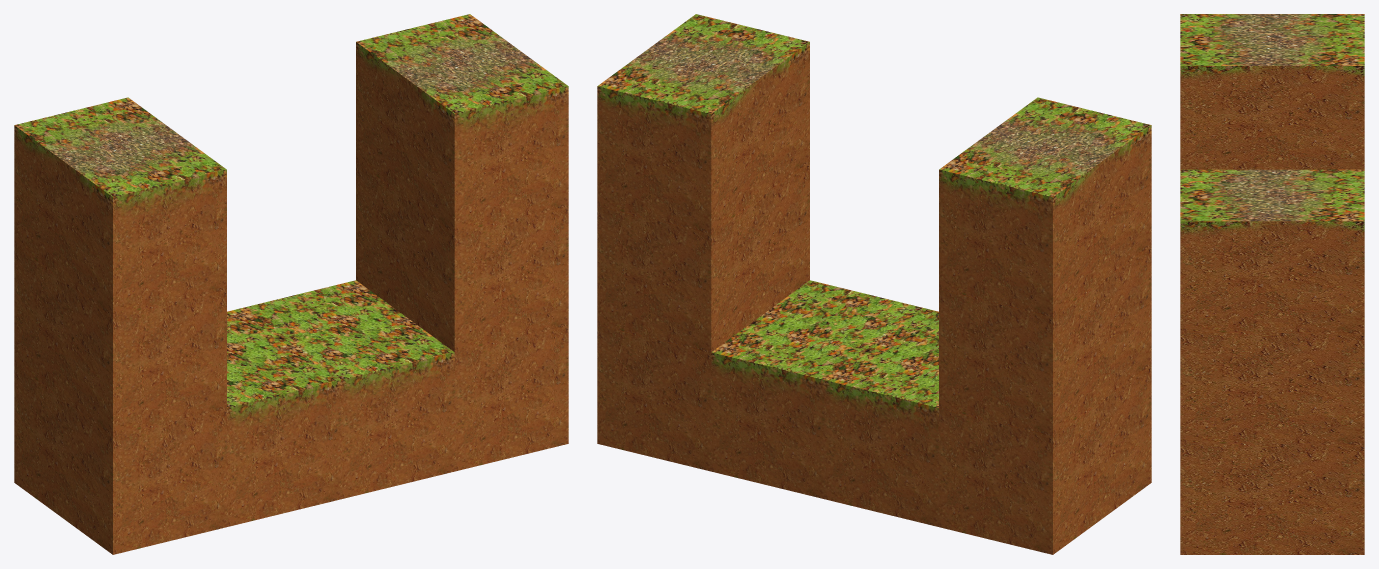
File: Hole-1.fbx
The picture shows the model from 3 angles, left to right: view 1: azimuth 30°, elevation 25°; view 2: azimuth 150°, elevation 25°; view 3: azimuth 270°, elevation 25°; orthographic projection. The views are drawn at different scales.
Visible parts, largest first — view 1: Unit_Block1, Unit_Block6, Unit_Block5, Unit_Block3, Unit_Block8, Unit_Block4, Unit_Block2, Unit_Block7; view 2: Unit_Block1, Unit_Block6, Unit_Block5, Unit_Block3, Unit_Block8, Unit_Block4, Unit_Block2, Unit_Block7; view 3: Unit_Block6, Unit_Block1, Unit_Block7, Unit_Block8.
Part boxes in pixels (x1,y1,x2,y2): Unit_Block1: (14,97,226,316); Unit_Block6: (356,14,568,232); Unit_Block5: (14,244,226,435); Unit_Block3: (14,364,226,554); Unit_Block8: (356,161,568,352); Unit_Block4: (242,280,454,499); Unit_Block2: (227,308,340,526); Unit_Block7: (454,324,568,471); Unit_Block1: (939,97,1151,316); Unit_Block6: (597,14,809,232); Unit_Block5: (939,244,1151,435); Unit_Block3: (939,364,1151,554); Unit_Block8: (597,161,809,352); Unit_Block4: (711,280,923,499); Unit_Block2: (825,308,938,526); Unit_Block7: (597,324,711,471); Unit_Block6: (1180,169,1364,332); Unit_Block1: (1180,14,1364,169); Unit_Block7: (1180,443,1364,554); Unit_Block8: (1180,332,1364,443).
Bounding box in the file's own units: 8 × 6 × 3.
